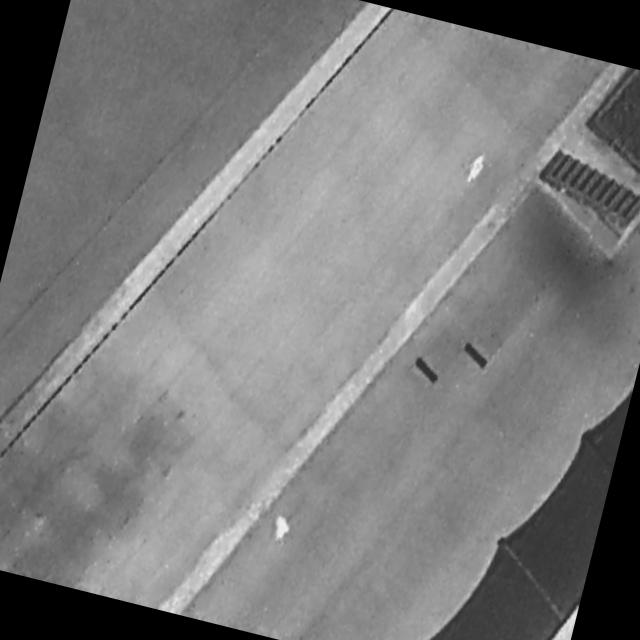person: (460, 147, 491, 190), (269, 511, 294, 545)
